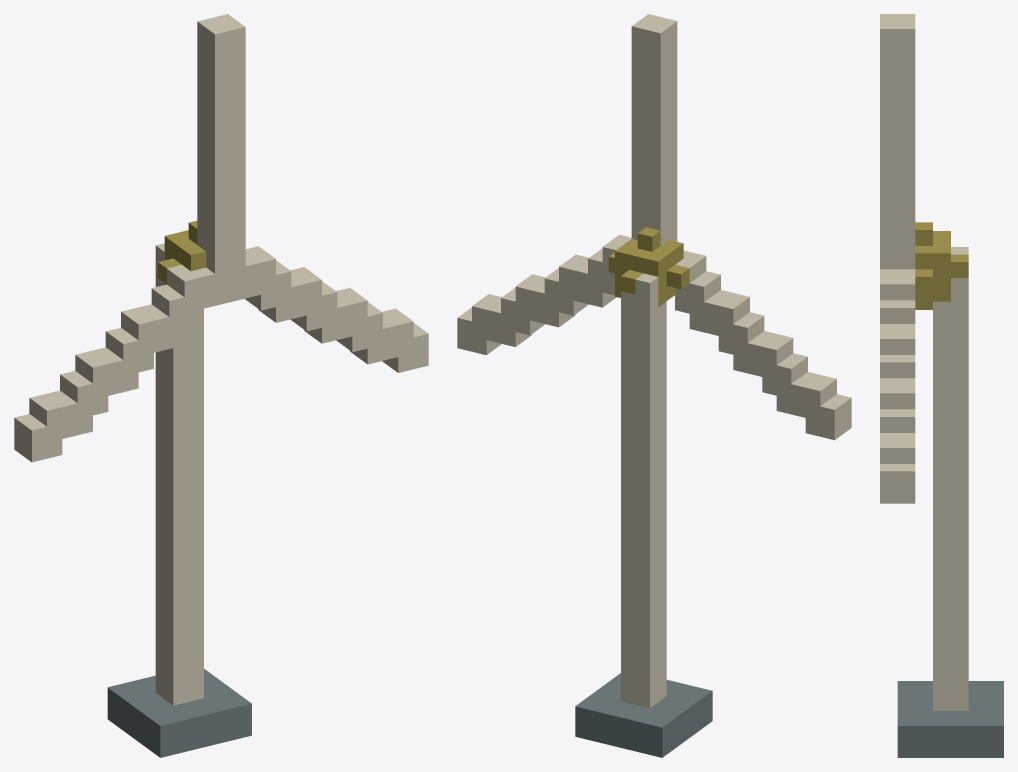
Rendered from energy-01.glb.
3 renders of one model, left to right at view 1: azimuth 30°, elevation 25°; view 2: azimuth 150°, elevation 25°; view 3: azimuth 270°, elevation 25°, orthographic. The views are drawn at different scales.
Parts seen in each view (by area): view 1: Wind turbine; view 2: Wind turbine; view 3: Wind turbine.
Boxes of the visible parts, x1,y1,x2,y2 form: Wind turbine: (14,14,428,757); Wind turbine: (457,14,851,757); Wind turbine: (880,14,1003,757).
Bounding box in the file's own units: 2.08 × 3.6 × 0.56.
